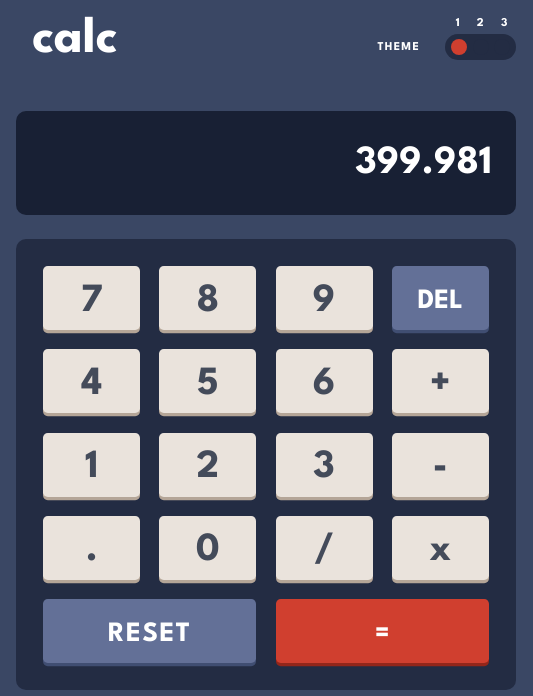
App › updateValue adds the correct character to the value
What coordinates should you click on to do the following:
click the button labelled "1"
I would click on:
 (92, 465)
Its box is x1=43 y1=433 x2=140 y2=497.
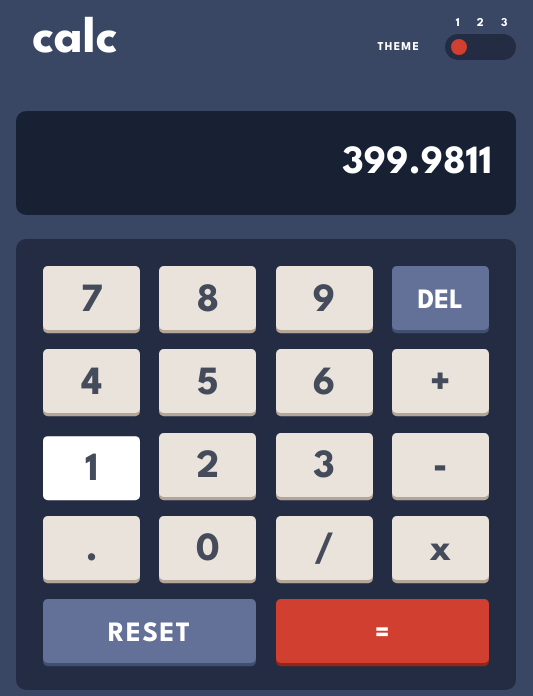
Now the text with test id "calc-display" reads "399.9811", box x1=342 y1=144 x2=492 y2=182
